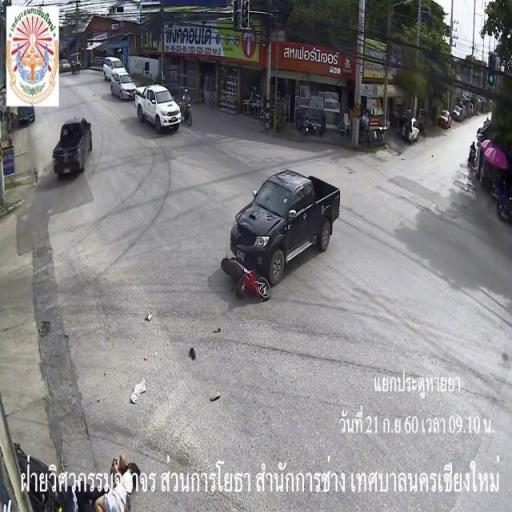Car: (41, 110, 101, 187), (131, 84, 185, 134), (95, 50, 129, 82), (109, 68, 135, 100)
Minor Accident: (223, 164, 340, 294)
Motor: (209, 242, 278, 319)
Not Accident: (104, 56, 191, 132)
